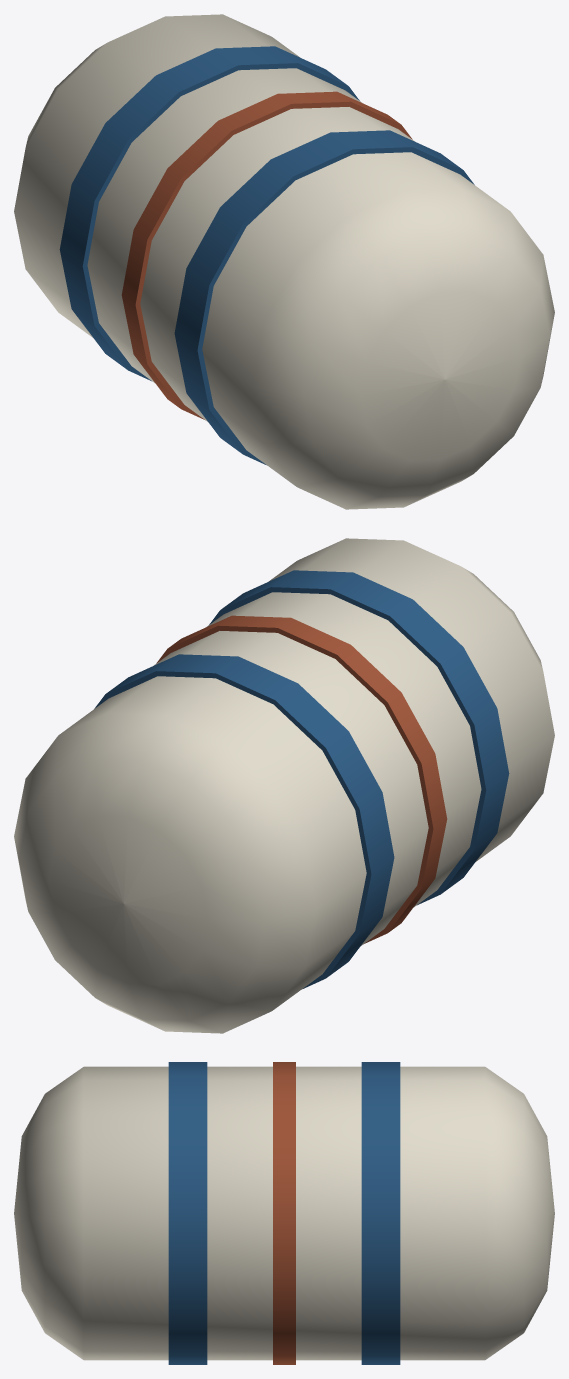
The model's file is jcharge_shell.obj.
3 views of the same model, one above another, from view 1: azimuth 30°, elevation 25°; view 2: azimuth 150°, elevation 25°; view 3: azimuth 270°, elevation 25° (orthographic). The views are drawn at different scales.
Parts seen in each view (by area): view 1: jcharge_shell; view 2: jcharge_shell; view 3: jcharge_shell.
Part boxes in pixels (x1,y1,x2,y2): jcharge_shell: [14, 14, 554, 509]; jcharge_shell: [14, 538, 554, 1033]; jcharge_shell: [14, 1062, 554, 1364].
Size of the model in its own units: 0.784 by 0.784 by 1.4.
